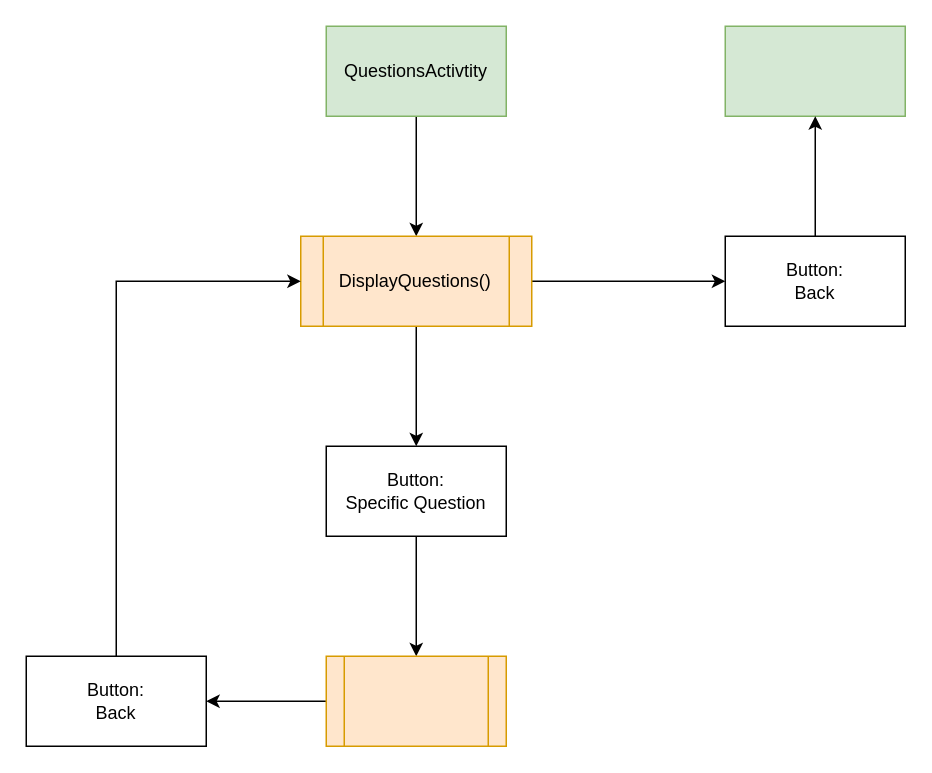
Some shapes in this 932 by 773 pixel diagram are drawn without their labels. The shapes that lost their labels are listed below. From the top down, each one's box as (x1, y1, x2, y2) in pixels, then its label:
(724, 25, 905, 116): MainActivity
(325, 655, 506, 746): DisplayAnswer()
